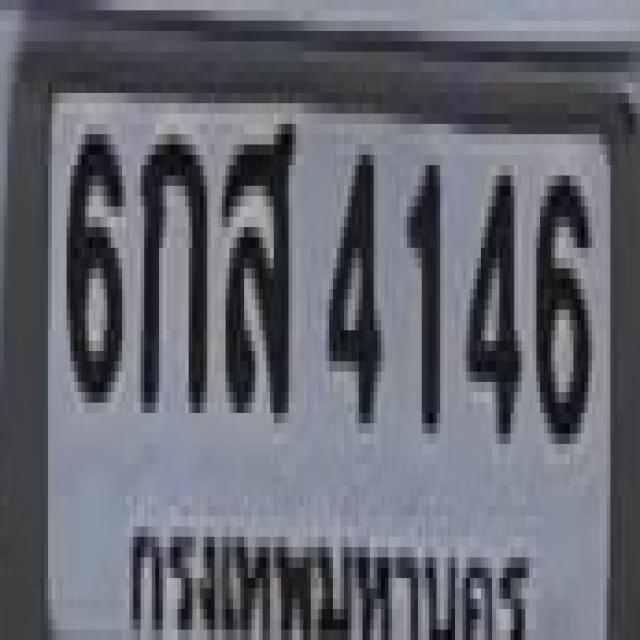-: (218, 113, 292, 413), (137, 124, 203, 402)
1: (403, 155, 437, 423)
4: (462, 160, 518, 428), (326, 144, 378, 413)
6: (533, 165, 588, 434), (63, 124, 118, 392)
BKK: (124, 491, 535, 640)
